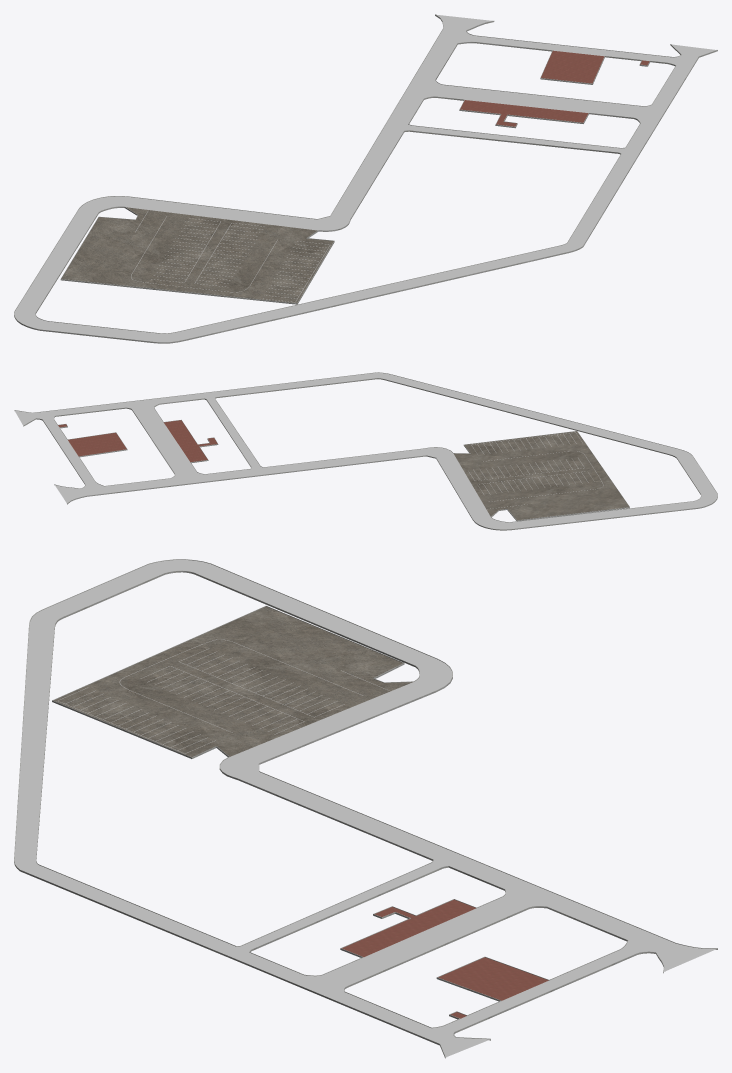
File: road_p04_01.fbx
The picture shows the model from 3 angles, top to bottom: view 1: azimuth 30°, elevation 25°; view 2: azimuth 150°, elevation 25°; view 3: azimuth 270°, elevation 25°; orthographic projection. The views are drawn at different scales.
Visible parts, largest first — view 1: road_p04_01; view 2: road_p04_01; view 3: road_p04_01.
Boxes of the visible parts, left/top/right/bottom form: road_p04_01: left=14, top=14, right=717, bottom=343; road_p04_01: left=14, top=372, right=717, bottom=530; road_p04_01: left=14, top=559, right=717, bottom=1058.
Size of the model in its own units: 45490 by 70.01 by 27183.
